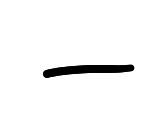minus: (43, 65, 135, 78)
